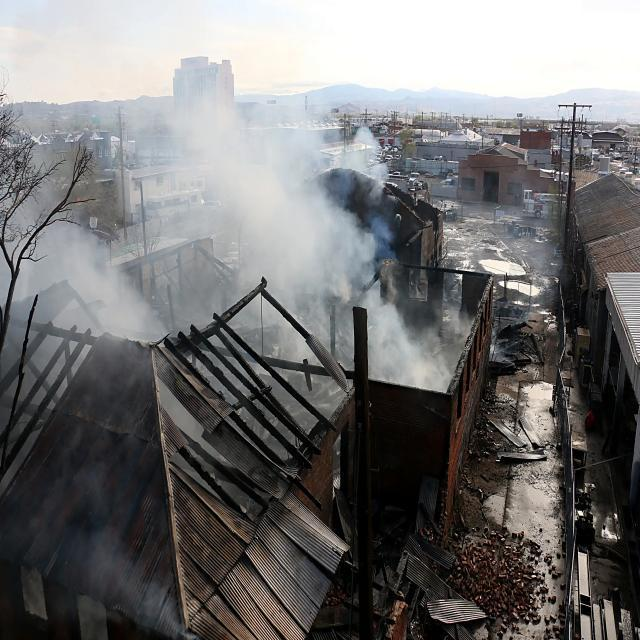Smoke: (161, 77, 449, 396), (8, 166, 170, 640)
